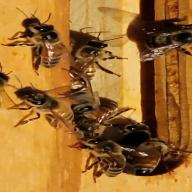Bee: (3, 11, 76, 72), (71, 126, 123, 184), (9, 82, 76, 118), (68, 43, 118, 89)
